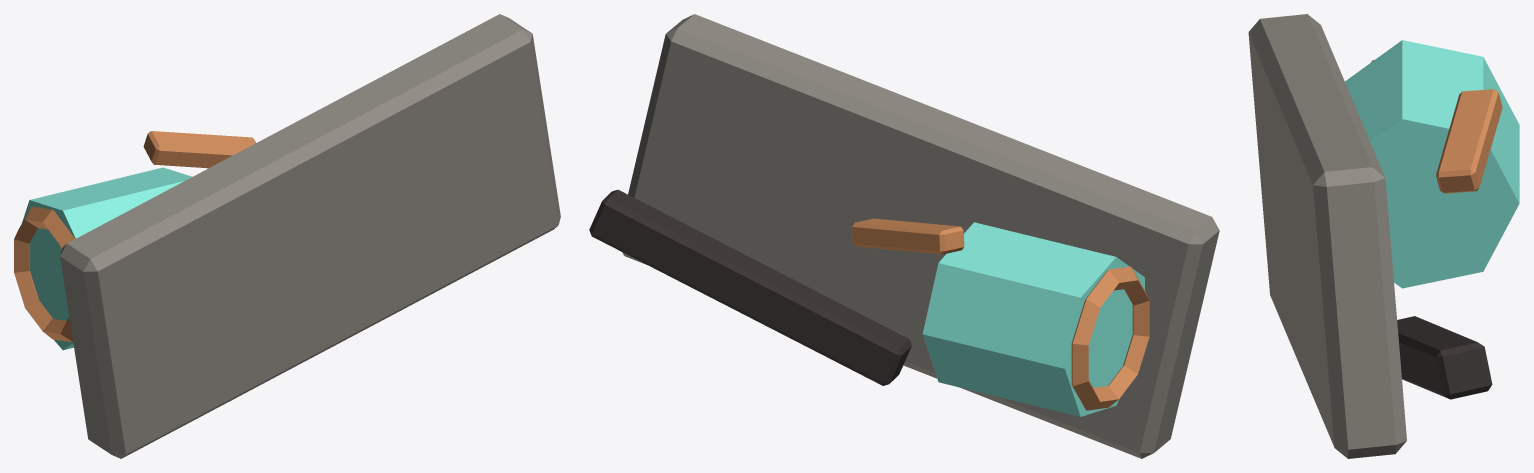
The model's file is CrashBasinWreckA.fbx.
3 renders of one model, left to right at view 1: azimuth 30°, elevation 25°; view 2: azimuth 150°, elevation 25°; view 3: azimuth 270°, elevation 25°, orthographic. The views are drawn at different scales.
Parts seen in each view (by area): view 1: WreckPlate, WreckCore, WreckRim, WreckShard; view 2: WreckPlate, WreckCore, WreckBeam, WreckRim, WreckShard; view 3: WreckPlate, WreckCore, WreckBeam, WreckShard.
Boxes of the visible parts, x1,y1,x2,y2 form: WreckPlate: (60, 14, 560, 458); WreckCore: (22, 167, 192, 350); WreckRim: (14, 206, 74, 342); WreckShard: (143, 131, 255, 168); WreckPlate: (622, 14, 1219, 458); WreckCore: (922, 222, 1144, 416); WreckBeam: (589, 189, 911, 385); WreckRim: (1071, 266, 1149, 410); WreckShard: (852, 218, 964, 254); WreckPlate: (1248, 14, 1406, 458); WreckCore: (1345, 40, 1519, 288); WreckBeam: (1397, 316, 1492, 399); WreckShard: (1436, 89, 1502, 193).
Size of the model in its own units: 318 by 186 by 119.
